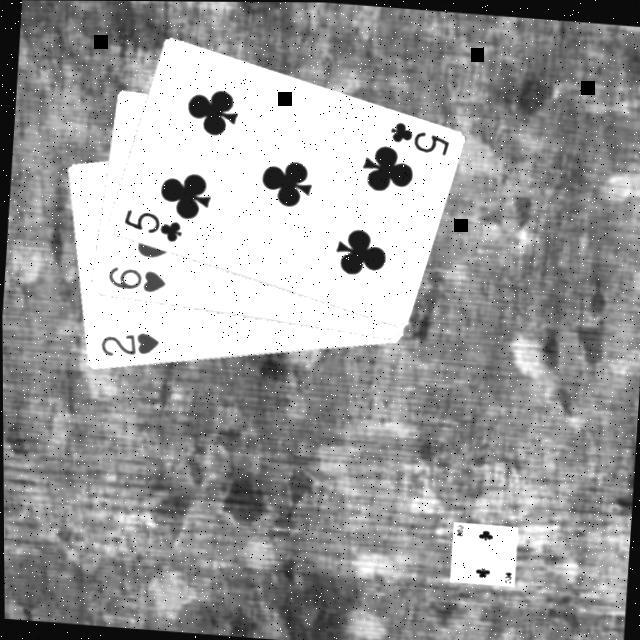2H: (97, 328, 163, 364)
5C: (119, 207, 187, 248), (386, 119, 454, 160)
6H: (104, 265, 170, 298)
